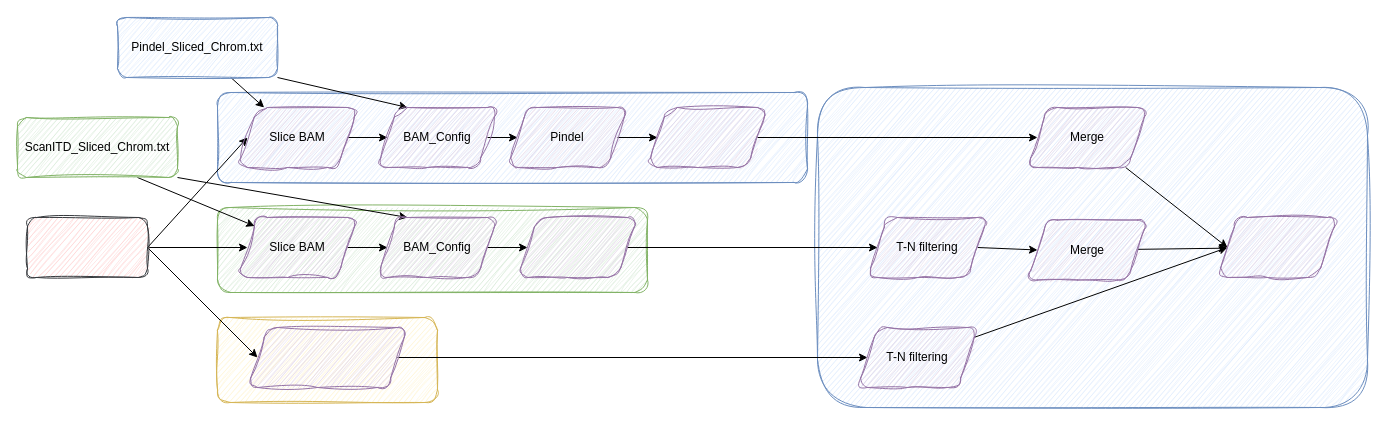
This 1385x425 diagram has some shape labels left out. The centre of each missing label's shape, as x and y in pixels:
2-caller: point 1277,247
Genomon-ITDetector: point 327,357
Pindel2vcf: point 707,137
Sample Sheet: point 87,247
ScanITD: point 577,247
